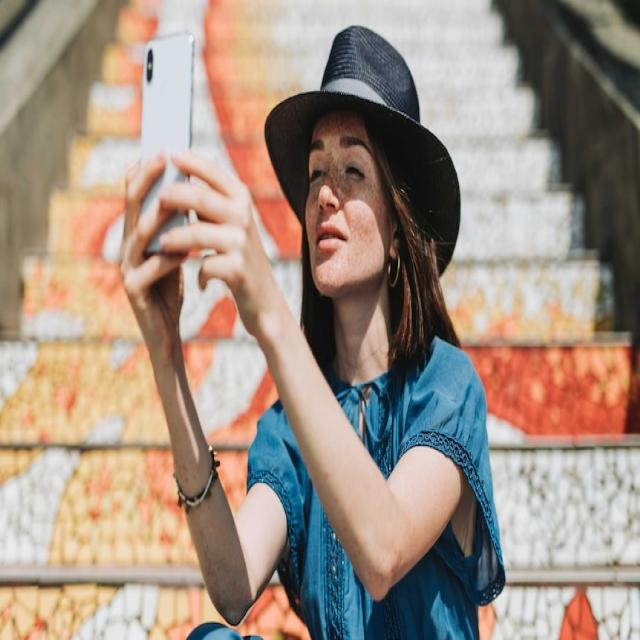hat: (264, 21, 460, 304)
